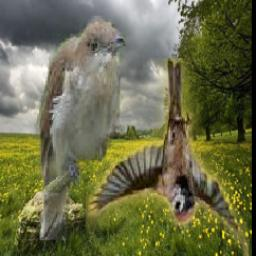Cuckoo: (35, 17, 127, 241)
Sparrow: (86, 59, 249, 256)
